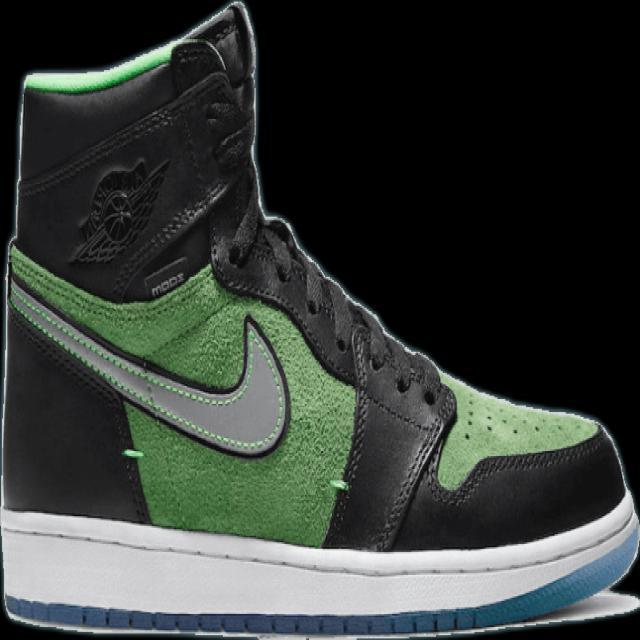J1_InsoleChar: (0, 0, 639, 639)
J1_ShoeLogo: (65, 155, 171, 266)
J1_StitchPattern: (4, 230, 615, 549), (0, 504, 639, 637), (211, 212, 457, 548), (18, 39, 251, 298), (5, 274, 289, 457), (6, 596, 480, 639), (110, 175, 233, 296), (439, 424, 611, 507), (370, 404, 451, 552), (330, 324, 376, 500), (472, 433, 607, 478)
